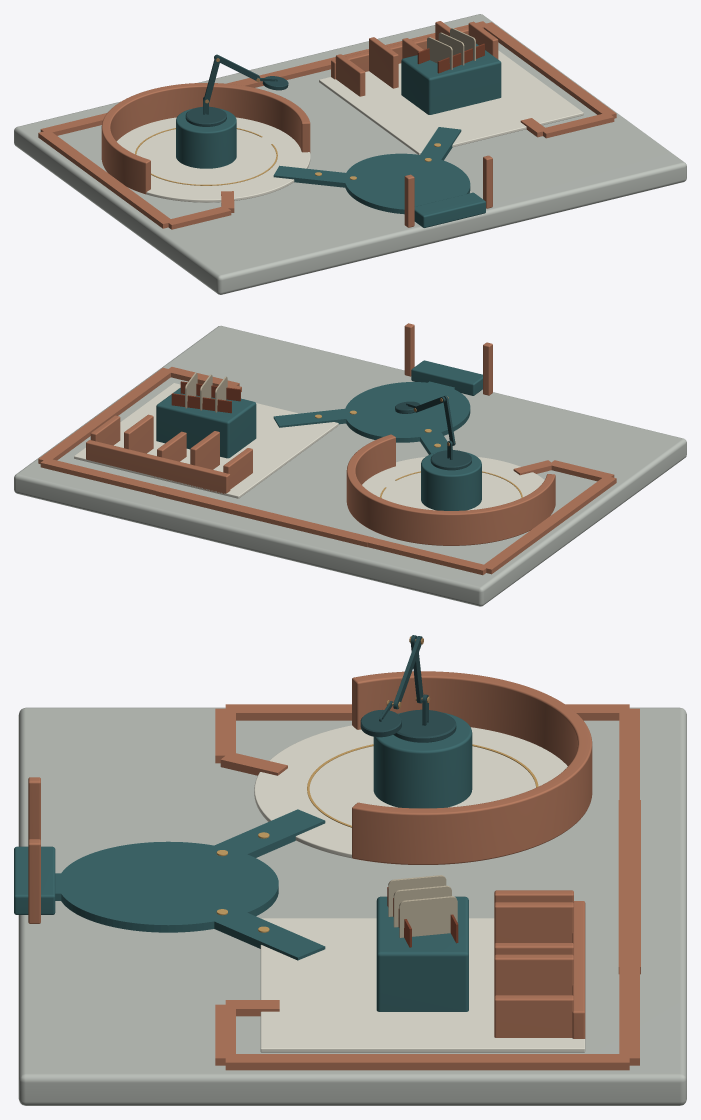
File: jointworks.glb
3 views of the same model, one above another, from view 1: azimuth 30°, elevation 25°; view 2: azimuth 150°, elevation 25°; view 3: azimuth 270°, elevation 25° (orthographic). The views are drawn at different scales.
Visible parts, largest first — view 1: Jointworks / island foundation, Jointworks / slot gallery floor, Jointworks / turning court floor, Jointworks / curved boundary, Jointworks / continuous rear bypass, Jointworks / continuous Y plaza, Jointworks / slot long exhibit plinth, Jointworks / hinge cylindrical plinth, Jointworks / arrival threshold, Jointworks / comb boundary fin 2, Jointworks / comb boundary fin 1, Jointworks / comb spine (+7 smaller); view 2: Jointworks / island foundation, Jointworks / continuous rear bypass, Jointworks / curved boundary, Jointworks / continuous Y plaza, Jointworks / slot gallery floor, Jointworks / turning court floor, Jointworks / slot long exhibit plinth, Jointworks / comb spine, Jointworks / hinge cylindrical plinth, Jointworks / arrival threshold, Jointworks / comb boundary fin 4, Jointworks / comb boundary fin 2 (+7 smaller); view 3: Jointworks / island foundation, Jointworks / curved boundary, Jointworks / slot gallery floor, Jointworks / continuous rear bypass, Jointworks / continuous Y plaza, Jointworks / turning court floor, Jointworks / slot long exhibit plinth, Jointworks / hinge cylindrical plinth, Jointworks / comb boundary fin 5, Jointworks / comb boundary fin 4, Jointworks / comb boundary fin 2, Jointworks / arrival threshold (+10 smaller).
Part boxes in pixels (<box>): Jointworks / island foundation: <box>14,14,686,294</box>; Jointworks / slot gallery floor: <box>319,50,583,154</box>; Jointworks / turning court floor: <box>116,117,310,202</box>; Jointworks / curved boundary: <box>101,83,310,194</box>; Jointworks / continuous rear bypass: <box>38,21,616,229</box>; Jointworks / continuous Y plaza: <box>273,127,470,214</box>; Jointworks / slot long exhibit plinth: <box>401,43,501,114</box>; Jointworks / hinge cylindrical plinth: <box>176,108,236,168</box>; Jointworks / arrival threshold: <box>414,192,485,227</box>; Jointworks / comb boundary fin 2: <box>369,37,398,88</box>; Jointworks / comb boundary fin 1: <box>335,54,365,96</box>; Jointworks / comb spine: <box>331,26,468,79</box>; Jointworks / island foundation: <box>14,325,686,606</box>; Jointworks / continuous rear bypass: <box>38,367,616,575</box>; Jointworks / curved boundary: <box>346,434,555,545</box>; Jointworks / continuous Y plaza: <box>273,381,470,454</box>; Jointworks / slot gallery floor: <box>74,383,338,498</box>; Jointworks / turning court floor: <box>362,457,544,510</box>; Jointworks / slot long exhibit plinth: <box>156,388,256,458</box>; Jointworks / comb spine: <box>86,440,230,494</box>; Jointworks / hinge cylindrical plinth: <box>421,452,481,510</box>; Jointworks / arrival threshold: <box>411,360,482,395</box>; Jointworks / comb boundary fin 4: <box>124,414,153,453</box>; Jointworks / comb boundary fin 2: <box>190,431,219,469</box>; Jointworks / island foundation: <box>18,707,686,1105</box>; Jointworks / curved boundary: <box>352,671,592,864</box>; Jointworks / slot gallery floor: <box>260,918,585,1052</box>; Jointworks / continuous rear bypass: <box>215,704,640,1070</box>; Jointworks / continuous Y plaza: <box>55,809,325,960</box>; Jointworks / turning court floor: <box>254,725,567,858</box>; Jointworks / slot long exhibit plinth: <box>376,896,468,1011</box>; Jointworks / hinge cylindrical plinth: <box>373,712,472,808</box>; Jointworks / comb boundary fin 5: <box>494,995,573,1037</box>; Jointworks / comb boundary fin 4: <box>494,954,573,996</box>; Jointworks / comb boundary fin 2: <box>494,902,573,944</box>; Jointworks / arrival threshold: <box>14,846,55,914</box>.
Bounding box in the file's own units: 2.76 × 0.683 × 2.11.
